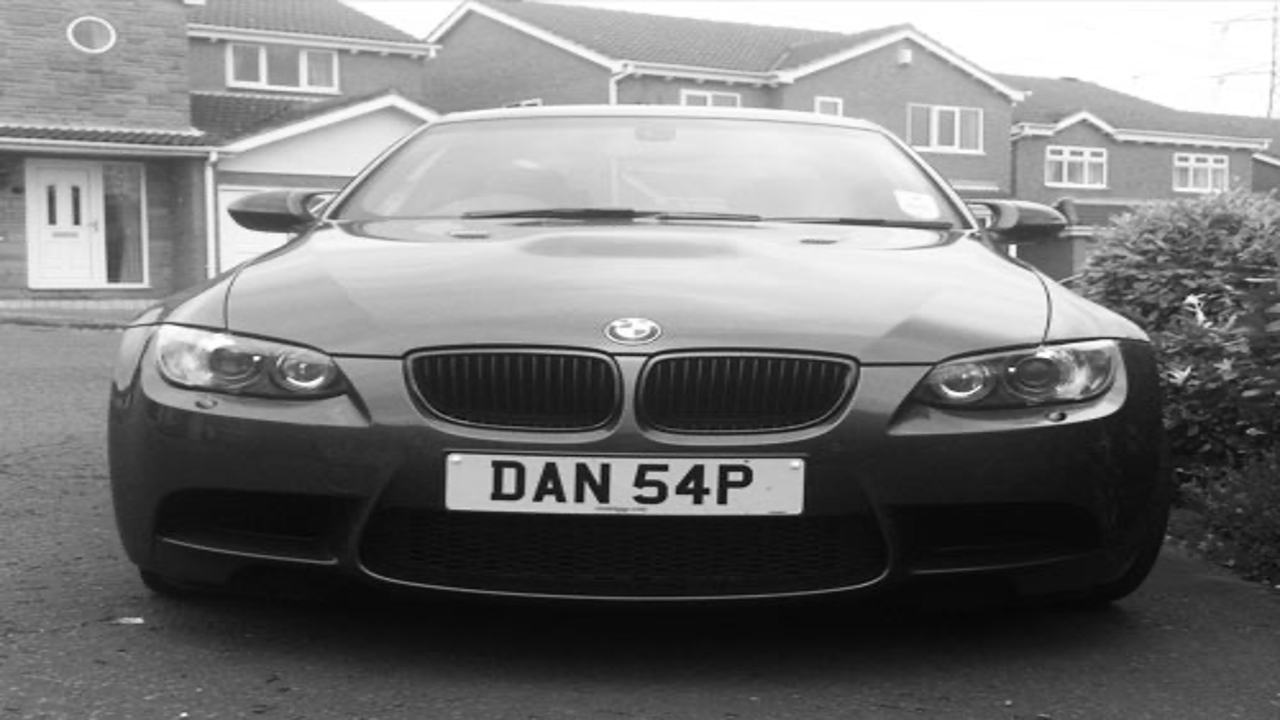license: (437, 440, 814, 532)
